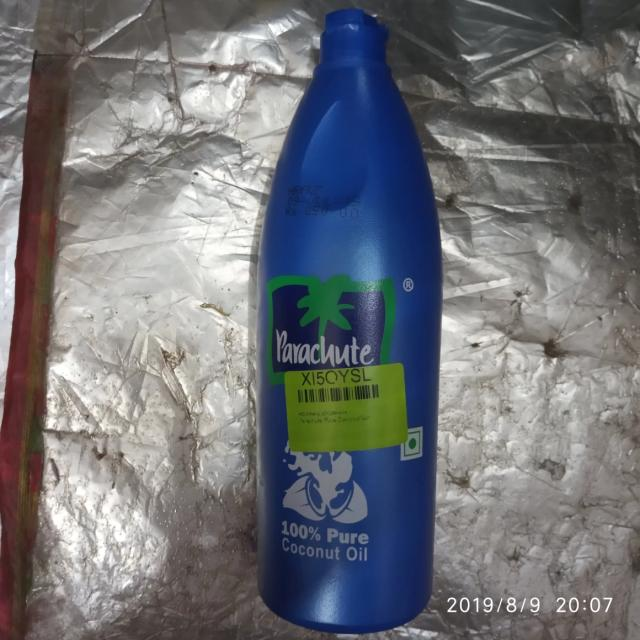parachute_oil: (232, 4, 451, 634)
